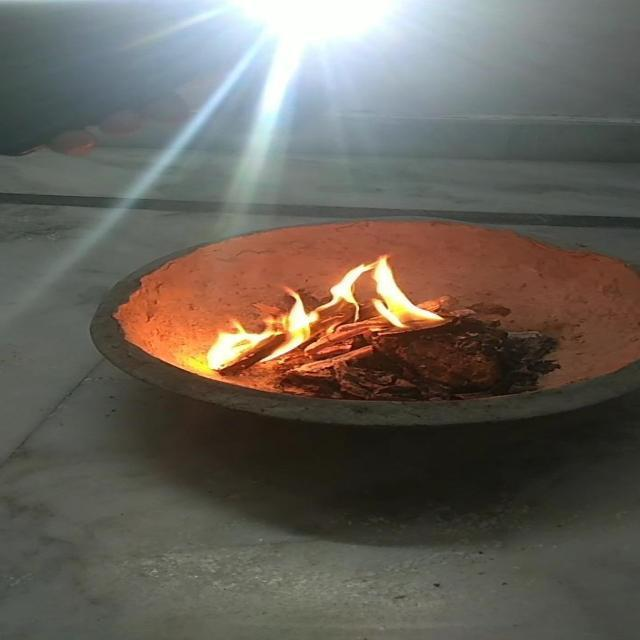smoke: (316, 254, 446, 332), (200, 286, 315, 370)
